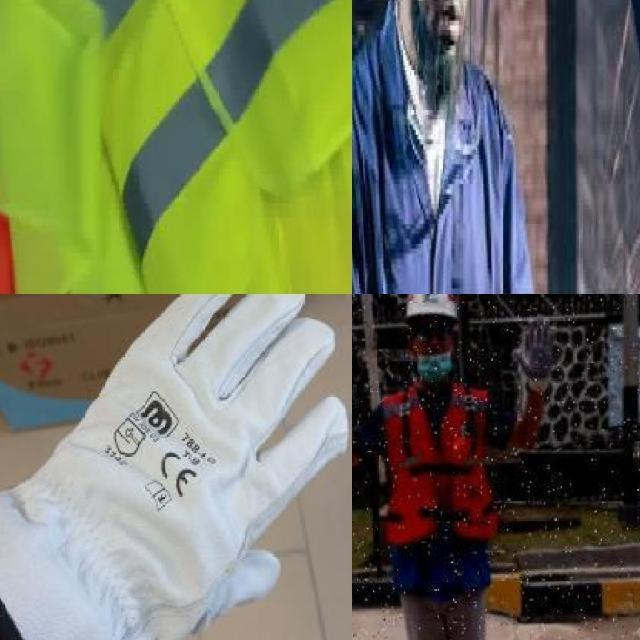apron: (0, 294, 352, 640), (510, 314, 560, 396)
